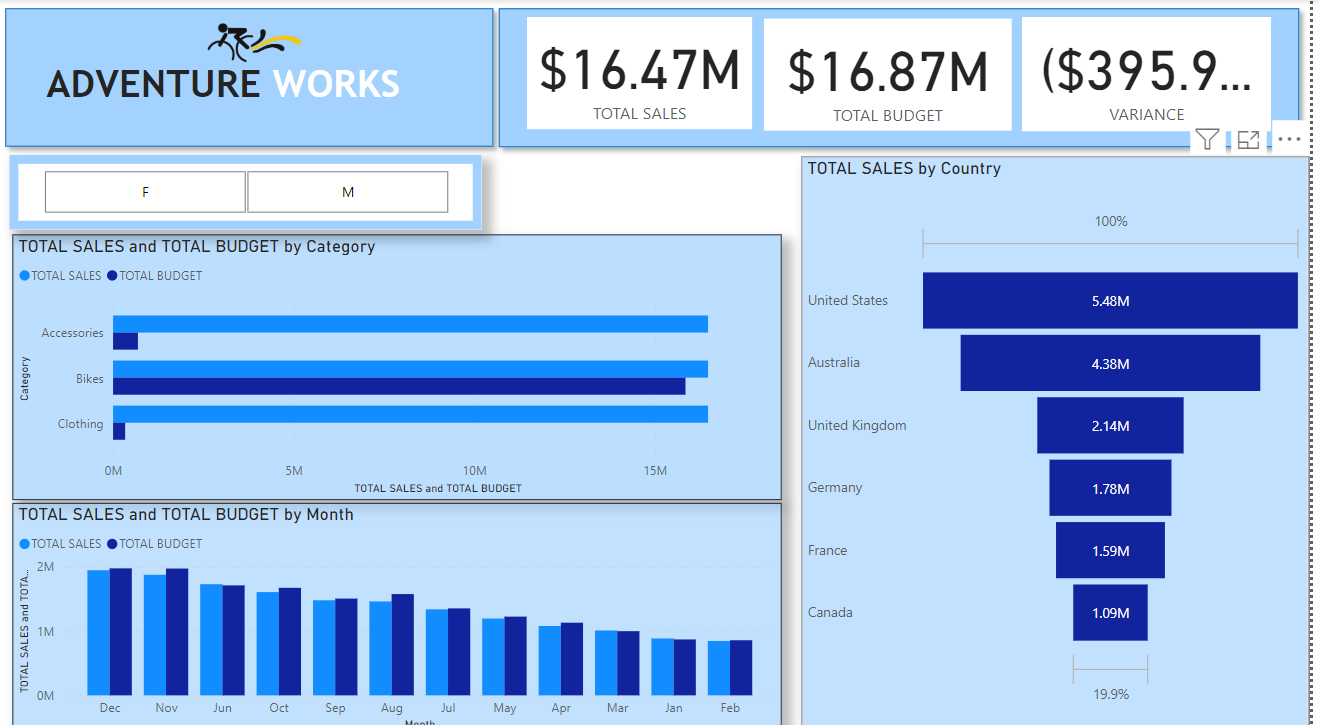

This screenshot's page, from the dashboard's own definition file:
{"tool":"powerbi","page":{"name":"Page 1","canvas":[1280,720],"ordinal":0},"visuals":[{"type":"clusteredBarChart","fields":{"Category":["Budget.Category"],"Y":["Sales.TOTAL SALES","Budget.TOTAL BUDGET"]},"box":[15.5,230,749.4,258.4],"z":0},{"type":"lineClusteredColumnComboChart","fields":{"Category":["Calendar.Month"],"Y":["Sales.TOTAL SALES","Budget.TOTAL BUDGET"]},"box":[15.5,491,749.4,227.4],"z":1000},{"type":"shape","box":[0,0,493.6,152.9],"z":2000},{"type":"shape","box":[480.8,0,798,153.5],"z":3000},{"type":"textbox","box":[22.7,15.1,438.4,120.9],"z":4000},{"type":"image","box":[196.5,13.2,107.7,60.5],"z":5000},{"type":"card","fields":{"Values":["Sum(Sales.SalesAmount)"]},"box":[517.4,17.5,219.2,109.6],"z":6000},{"type":"card","fields":{"Values":["Sum(Budget.Budget Value)"]},"box":[748.3,19,241.1,109.6],"z":7000},{"type":"card","fields":{"Values":["Sales.VARIANCE"]},"box":[999.6,17.5,242.6,111.1],"z":8000},{"type":"slicer","fields":{"Values":["Customer.Gender"]},"box":[12.9,152.5,460,72.4],"z":9000},{"type":"funnel","fields":{"Y":["Sales.TOTAL SALES"],"Category":["Territories.Country"]},"box":[784.1,153.9,494.7,564.3],"z":9001}]}

Visuals, with their boxes in screenshot pixels (x1, y1, x2, y2):
clusteredBarChart - Budget.Category x Sales.TOTAL SALES: {"x1": 6, "y1": 226, "x2": 777, "y2": 492}
lineClusteredColumnComboChart - Calendar.Month x Sales.TOTAL SALES: {"x1": 6, "y1": 495, "x2": 777, "y2": 724}
shape: {"x1": 0, "y1": 0, "x2": 498, "y2": 147}
shape: {"x1": 485, "y1": 0, "x2": 1306, "y2": 148}
textbox: {"x1": 13, "y1": 5, "x2": 464, "y2": 130}
image: {"x1": 192, "y1": 3, "x2": 303, "y2": 66}
card - Sum(Sales.SalesAmount): {"x1": 522, "y1": 8, "x2": 748, "y2": 121}
card - Sum(Budget.Budget Value): {"x1": 760, "y1": 9, "x2": 1008, "y2": 122}
card - Sales.VARIANCE: {"x1": 1018, "y1": 8, "x2": 1268, "y2": 122}
slicer - Customer.Gender: {"x1": 3, "y1": 147, "x2": 476, "y2": 221}
funnel - Sales.TOTAL SALES x Territories.Country: {"x1": 797, "y1": 148, "x2": 1306, "y2": 724}
